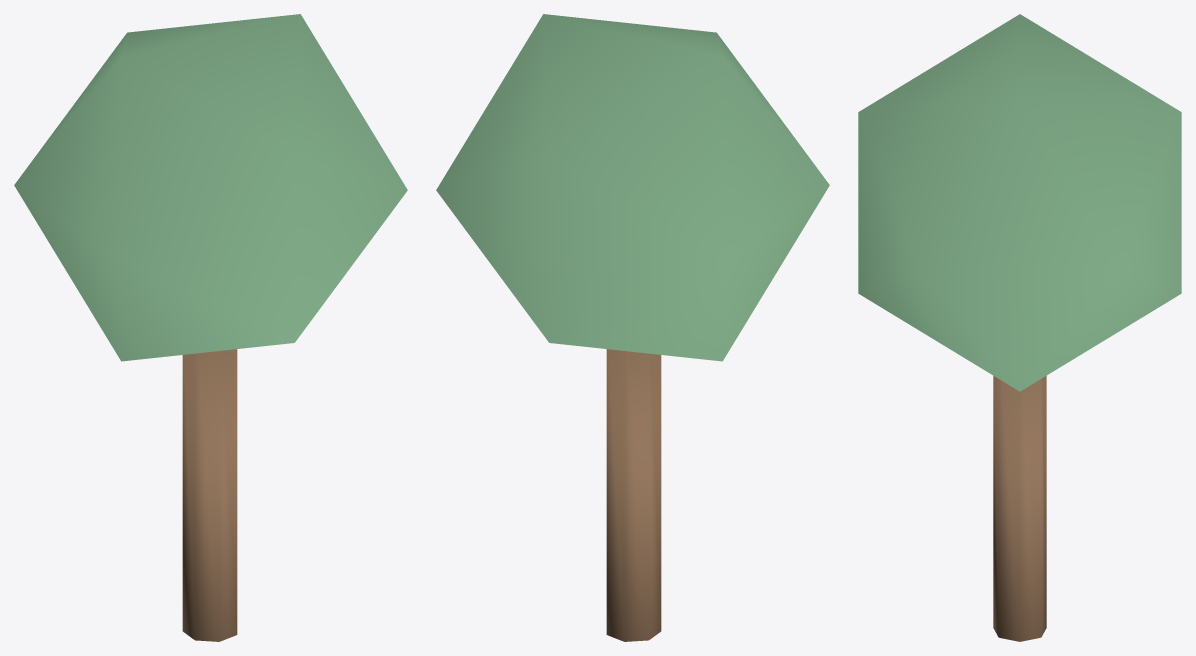
Rendered from stylized_tree.glb.
3 renders of one model, left to right at view 1: azimuth 30°, elevation 25°; view 2: azimuth 150°, elevation 25°; view 3: azimuth 270°, elevation 25°, orthographic. The views are drawn at different scales.
Bounding box in the file's own units: 2.13 × 4.16 × 2.13.
